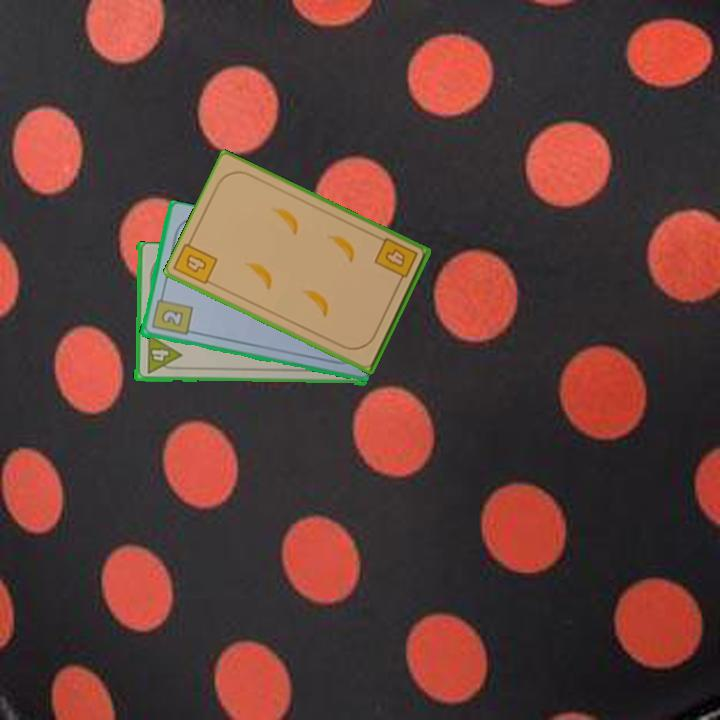2b: (148, 290, 195, 338)
4b: (371, 234, 420, 288), (181, 250, 209, 276)
4p: (143, 332, 183, 377)
